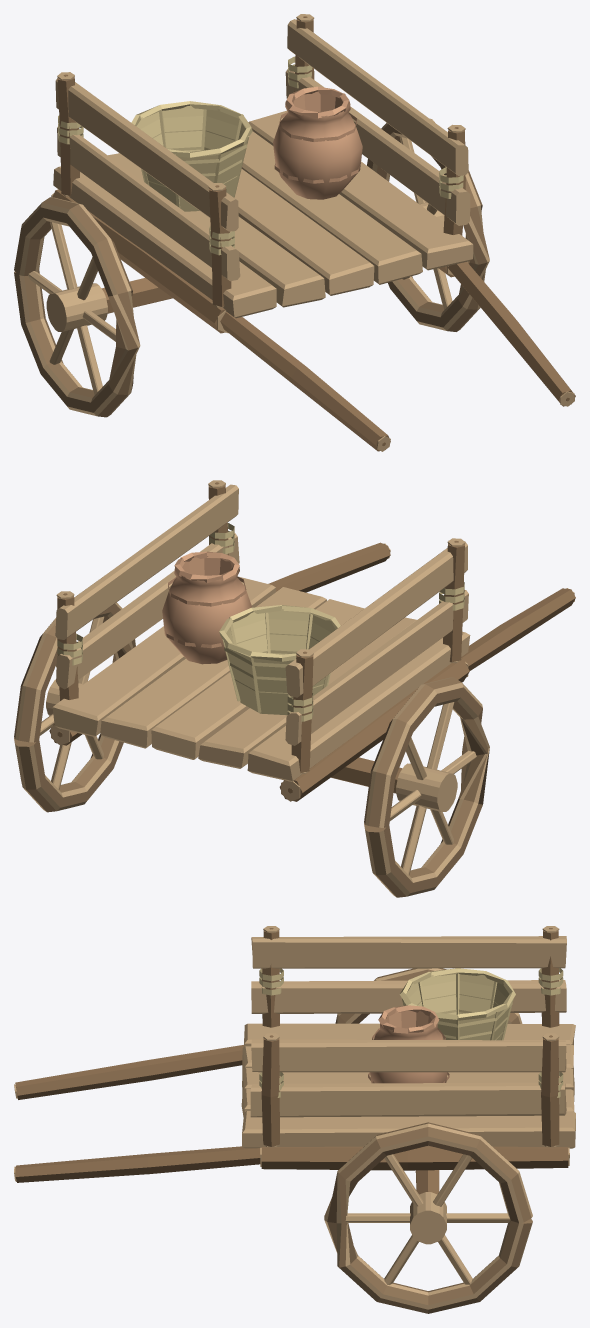
Rendered from yard_cart.glb.
The picture shows the model from 3 angles, top to bottom: view 1: azimuth 30°, elevation 25°; view 2: azimuth 150°, elevation 25°; view 3: azimuth 270°, elevation 25°; orthographic projection. The views are drawn at different scales.
Visible parts, largest first — view 1: yard_cart; view 2: yard_cart; view 3: yard_cart.
Part boxes in pixels (box(x1,y1,x2,y2)): yard_cart: box(14, 14, 575, 451); yard_cart: box(14, 480, 575, 897); yard_cart: box(14, 926, 575, 1313).
Bounding box in the file's own units: 1.7 × 1.13 × 2.29.
